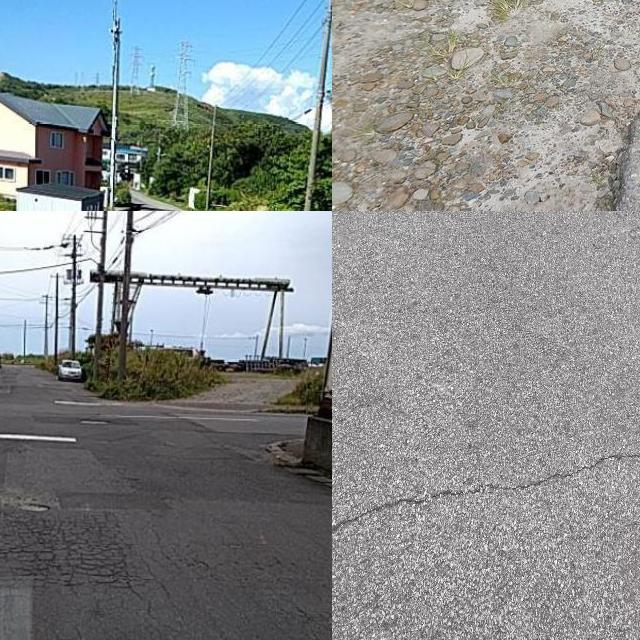Melintang: (332, 437, 640, 543)
Retak Buaya: (3, 512, 132, 591)
